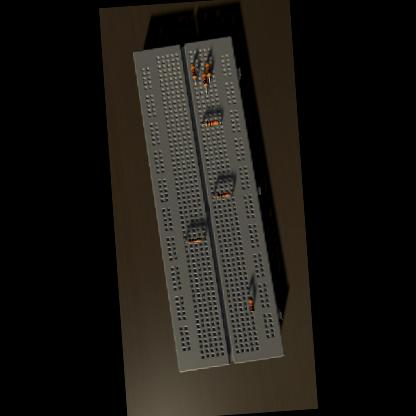breadboard: (132, 33, 286, 373)
resistor: (206, 61, 212, 76), (248, 296, 254, 311), (187, 236, 201, 242), (202, 72, 208, 86), (206, 119, 218, 126), (216, 191, 230, 197), (191, 63, 196, 78)
wire: (248, 290, 250, 296), (202, 122, 204, 126), (212, 196, 216, 198), (185, 240, 187, 242), (202, 236, 204, 238), (218, 121, 220, 123), (230, 193, 232, 194), (251, 311, 252, 313)
